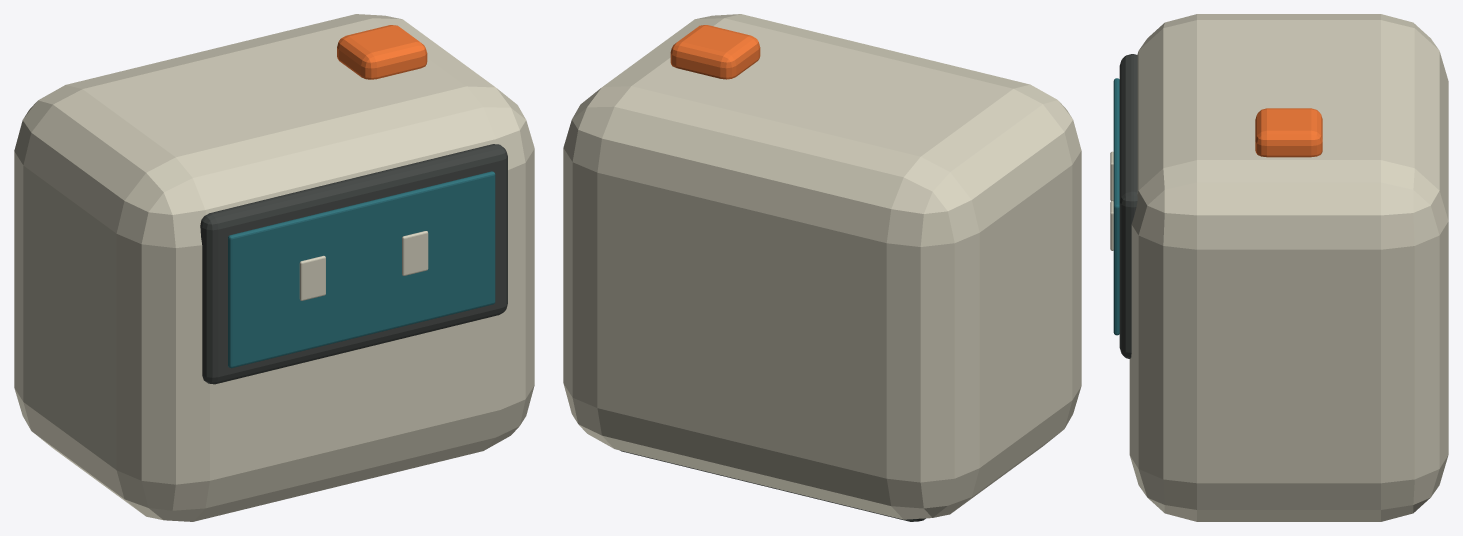
File: xiaozhi-esp32.glb
3 renders of one model, left to right at view 1: azimuth 30°, elevation 25°; view 2: azimuth 150°, elevation 25°; view 3: azimuth 270°, elevation 25°, orthographic.
Visible parts, largest first — view 1: Desk shell, LCD pane, LCD frame, Top switch, Status eye, Status eye.001; view 2: Desk shell, Top switch; view 3: Desk shell, LCD frame, Top switch, LCD pane.
Boxes of the visible parts, x1,y1,x2,y2 form: Desk shell: (14, 14, 534, 521); LCD pane: (228, 171, 495, 368); LCD frame: (200, 144, 507, 384); Top switch: (337, 25, 427, 79); Status eye: (299, 255, 325, 300); Status eye.001: (402, 231, 428, 275); Desk shell: (563, 14, 1081, 519); Top switch: (670, 25, 760, 79); Desk shell: (1129, 14, 1448, 521); LCD frame: (1119, 54, 1137, 358); Top switch: (1255, 108, 1322, 157); LCD pane: (1113, 78, 1119, 335).
Size of the model in its own units: 1.52 by 1.36 by 1.1.
